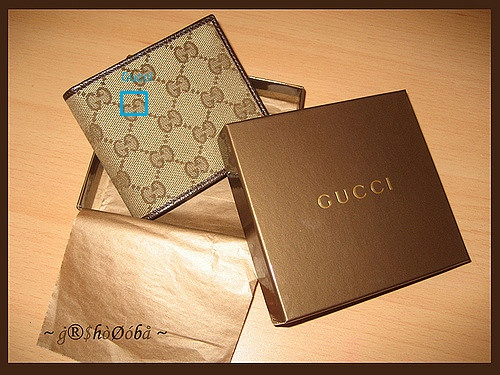Chanel: (311, 173, 395, 213), (119, 96, 151, 125)
